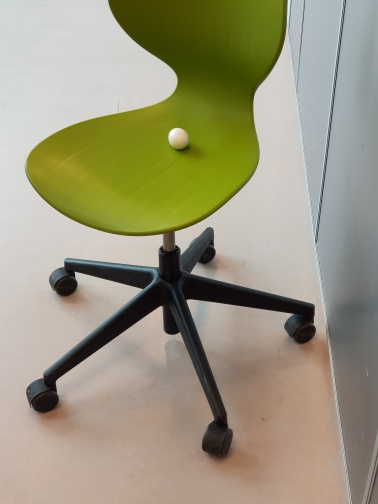egg: (166, 126, 192, 151)
